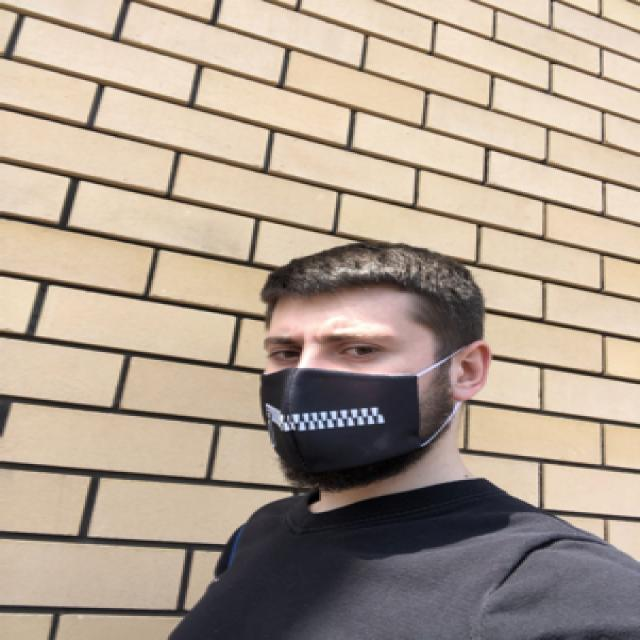with_mask: (260, 314, 428, 488)
